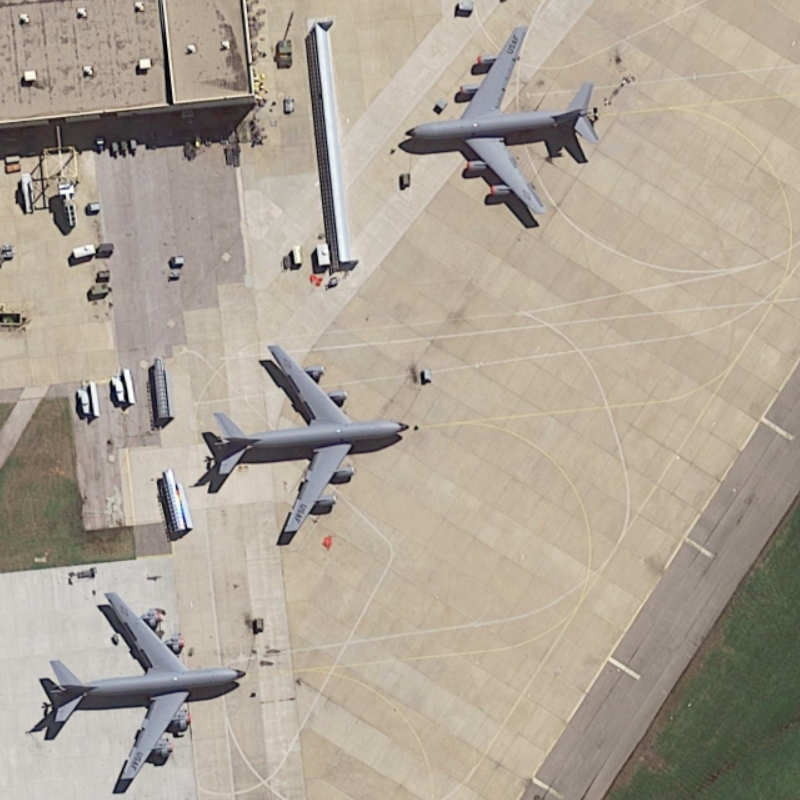A14: (210, 340, 415, 544), (46, 582, 251, 786), (404, 26, 610, 225)
